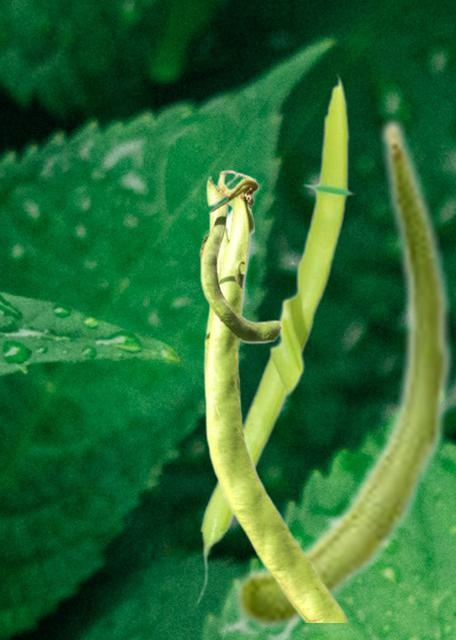french_bean: (230, 115, 454, 631), (194, 72, 354, 607), (198, 169, 347, 621)
